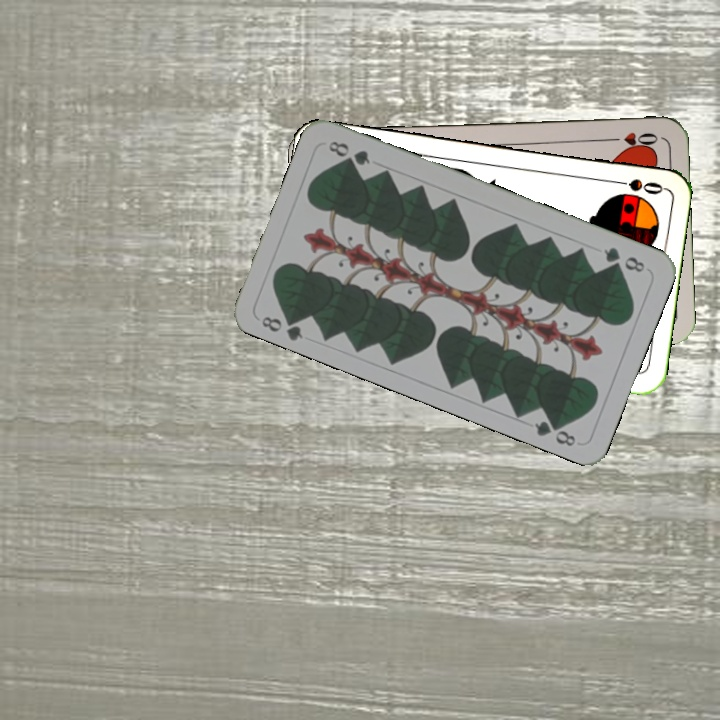G8: (257, 309, 306, 343), (599, 243, 648, 275)
HO: (603, 128, 661, 151)
SO: (606, 175, 666, 197)
